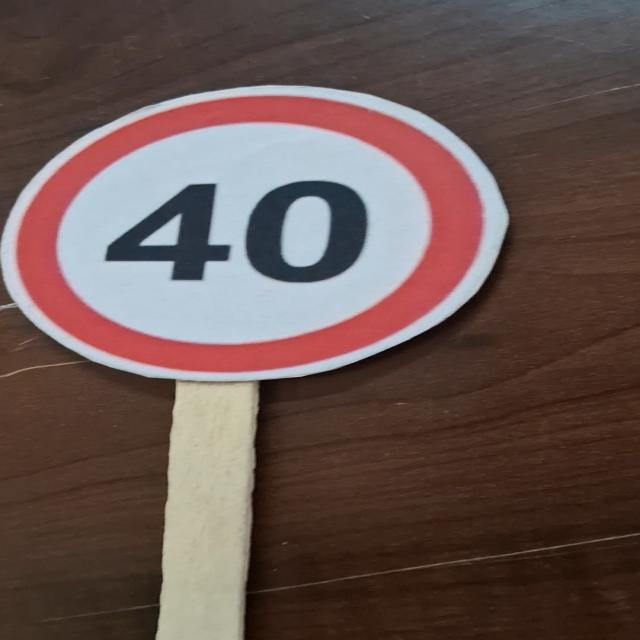Speed40: (0, 80, 508, 386)
